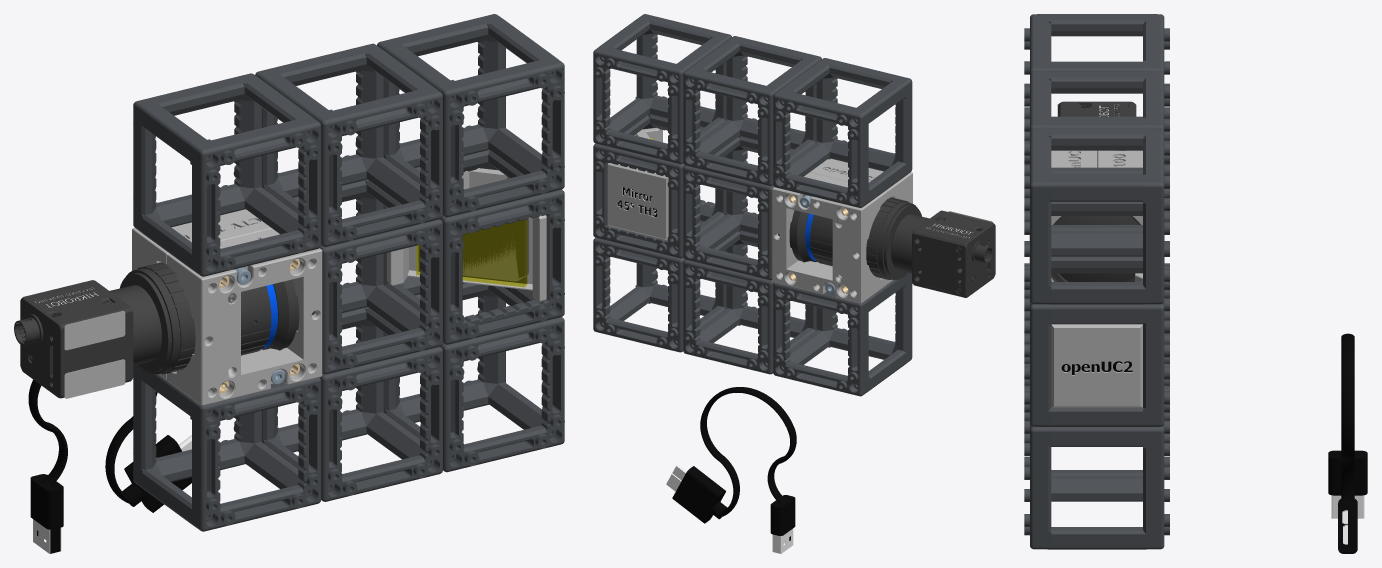
The model's file is ASS_-_1001_-_BRILAY001#2.glb.
3 renders of one model, left to right at view 1: azimuth 30°, elevation 25°; view 2: azimuth 150°, elevation 25°; view 3: azimuth 270°, elevation 25°, orthographic. The views are drawn at different scales.
Visible parts, largest first — view 1: PRT - 1003 - CUBHLF111 - V04:2 (×8), PRT - 1003 - CUBHLF111 - V04:1 (×8), PRT - 1008 - OBJHOL_CLENS-100TEL:1, BUY - HIKROBOT - Camera - MV-CE060-10UM-PRO:1, BUY - Objectiv - CLENS-100TEL:1, BUY - HIKROBOT - Camera cable:2, BUY - Mirror - 40x30x3:1, PRT - 2030 - INSMIR45TH3:1, PRT - 1008 - OBJHOL_CLENS-100TEL:2, PRT - 5001 - STKCAUHEA25x10:1, PRT - 5003 - STKCAUDNTCOV25x10:1, BUY - Adhesive pad - 41x29x1:1; view 2: PRT - 1003 - CUBHLF111 - V04:1 (×8), PRT - 1003 - CUBHLF111 - V04:2 (×8), PRT - 1008 - OBJHOL_CLENS-100TEL:2, BUY - HIKROBOT - Camera - MV-CE060-10UM-PRO:1, BUY - HIKROBOT - Camera cable:2, BUY - Objectiv - CLENS-100TEL:1, PRT - 2030 - INSMIR45TH3:1, PRT - 1008 - OBJHOL_CLENS-100TEL:1; view 3: PRT - 1003 - CUBHLF111 - V04:1 (×7), PRT - 1003 - CUBHLF111 - V04:2 (×5), PRT - 2030 - INSMIR45TH3:1, BUY - HIKROBOT - Camera cable:2, BUY - Objectiv - CLENS-100TEL:1, BUY - HIKROBOT - Camera - MV-CE060-10UM-PRO:1, PRT - 1008 - OBJHOL_CLENS-100TEL:1, PRT - 1008 - OBJHOL_CLENS-100TEL:2.
Part boxes in pixels (x1,y1,x2,y2): PRT - 1003 - CUBHLF111 - V04:2 (×8): [142, 20, 564, 531]; PRT - 1003 - CUBHLF111 - V04:1 (×8): [133, 14, 551, 492]; PRT - 1008 - OBJHOL_CLENS-100TEL:1: [167, 228, 322, 405]; BUY - HIKROBOT - Camera - MV-CE060-10UM-PRO:1: [14, 280, 161, 398]; BUY - Objectiv - CLENS-100TEL:1: [119, 262, 314, 374]; BUY - HIKROBOT - Camera cable:2: [28, 379, 191, 553]; BUY - Mirror - 40x30x3:1: [416, 219, 527, 287]; PRT - 2030 - INSMIR45TH3:1: [387, 168, 546, 302]; PRT - 1008 - OBJHOL_CLENS-100TEL:2: [132, 209, 271, 379]; PRT - 5001 - STKCAUHEA25x10:1: [64, 359, 125, 398]; PRT - 5003 - STKCAUDNTCOV25x10:1: [64, 311, 125, 350]; BUY - Adhesive pad - 41x29x1:1: [417, 218, 529, 281]; PRT - 1003 - CUBHLF111 - V04:1 (×8): [593, 37, 905, 396]; PRT - 1003 - CUBHLF111 - V04:2 (×8): [602, 14, 912, 390]; PRT - 1008 - OBJHOL_CLENS-100TEL:2: [772, 172, 886, 303]; BUY - HIKROBOT - Camera - MV-CE060-10UM-PRO:1: [891, 210, 995, 297]; BUY - HIKROBOT - Camera cable:2: [666, 387, 796, 553]; BUY - Objectiv - CLENS-100TEL:1: [778, 197, 921, 280]; PRT - 2030 - INSMIR45TH3:1: [607, 127, 668, 240]; PRT - 1008 - OBJHOL_CLENS-100TEL:1: [809, 158, 912, 284]; PRT - 1003 - CUBHLF111 - V04:1 (×7): [1051, 14, 1169, 549]; PRT - 1003 - CUBHLF111 - V04:2 (×5): [1024, 14, 1142, 549]; PRT - 2030 - INSMIR45TH3:1: [1051, 273, 1142, 407]; BUY - HIKROBOT - Camera cable:2: [1328, 333, 1367, 553]; BUY - Objectiv - CLENS-100TEL:1: [1051, 216, 1140, 281]; BUY - HIKROBOT - Camera - MV-CE060-10UM-PRO:1: [1058, 101, 1136, 116]; PRT - 1008 - OBJHOL_CLENS-100TEL:1: [1029, 150, 1096, 281]; PRT - 1008 - OBJHOL_CLENS-100TEL:2: [1097, 150, 1164, 262].
Bounding box in the file's own units: 208 × 203 × 127.
